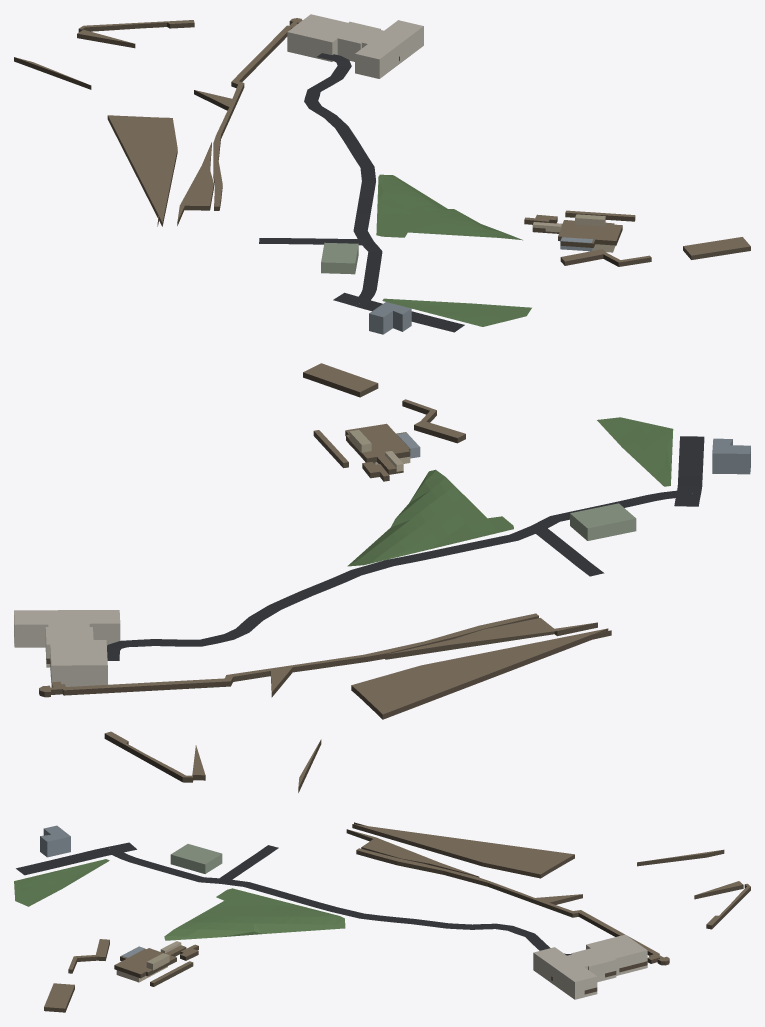
The model's file is tile_5_1.glb.
3 renders of one model, top to bottom at view 1: azimuth 30°, elevation 25°; view 2: azimuth 150°, elevation 25°; view 3: azimuth 270°, elevation 25°, orthographic. The views are drawn at different scales.
Visible parts, largest first — view 1: grn_5_1, bld_5_1, road_5_1; view 2: grn_5_1, bld_5_1, road_5_1; view 3: grn_5_1, bld_5_1, road_5_1.
Boxes of the visible parts, <box> form: grn_5_1: <box>14,18,750,326</box>; bld_5_1: <box>287,14,615,334</box>; road_5_1: <box>259,53,464,332</box>; grn_5_1: <box>14,363,673,792</box>; bld_5_1: <box>14,430,750,687</box>; road_5_1: <box>107,436,704,660</box>; grn_5_1: <box>14,822,750,1012</box>; bld_5_1: <box>40,825,647,999</box>; road_5_1: <box>16,842,570,955</box>.
Size of the model in its own units: 258 by 17.9 by 431.
